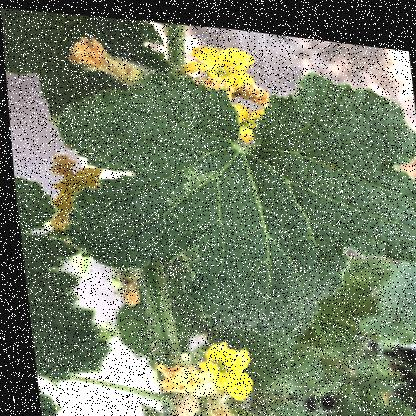Normal: (59, 57, 415, 342)
